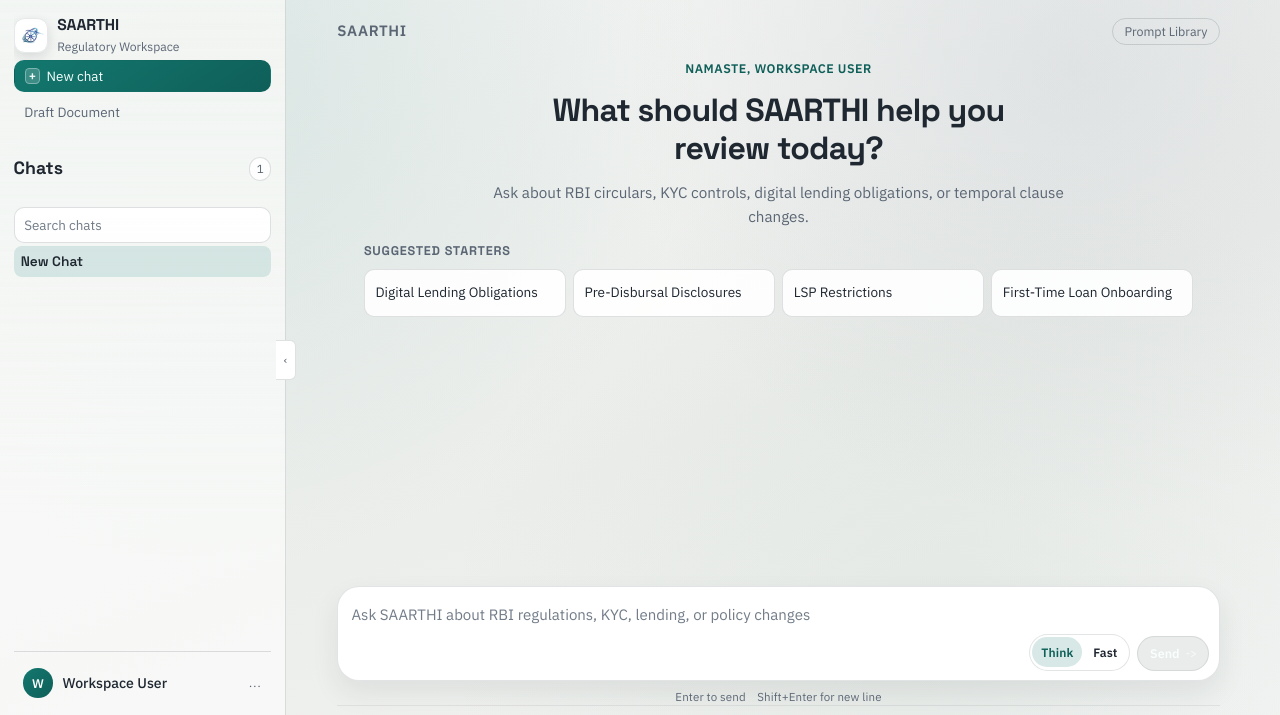
chat workspace › updates composer response mode and includes it in ask payload
Expected: the heading "SAARTHI" is shown, [57,15,119,35]
Click the button with aria-label "Fast mode": (1105, 652) [1084,637,1126,667]
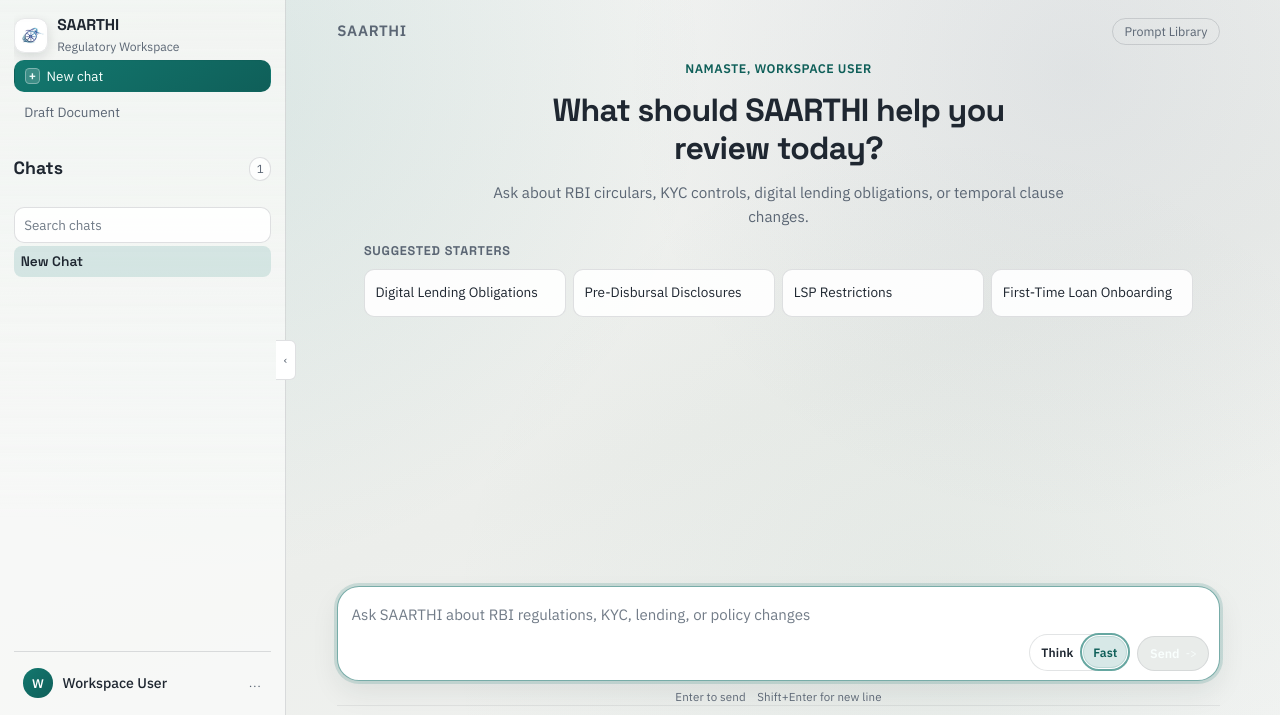
Expected: the button with aria-label "Fast mode" is pressed, [1084,637,1126,667]
In the text box with placeholder "Ask SAARTHI about RBI regulations": (684, 634) [348,597,1021,671], type "Quick test"
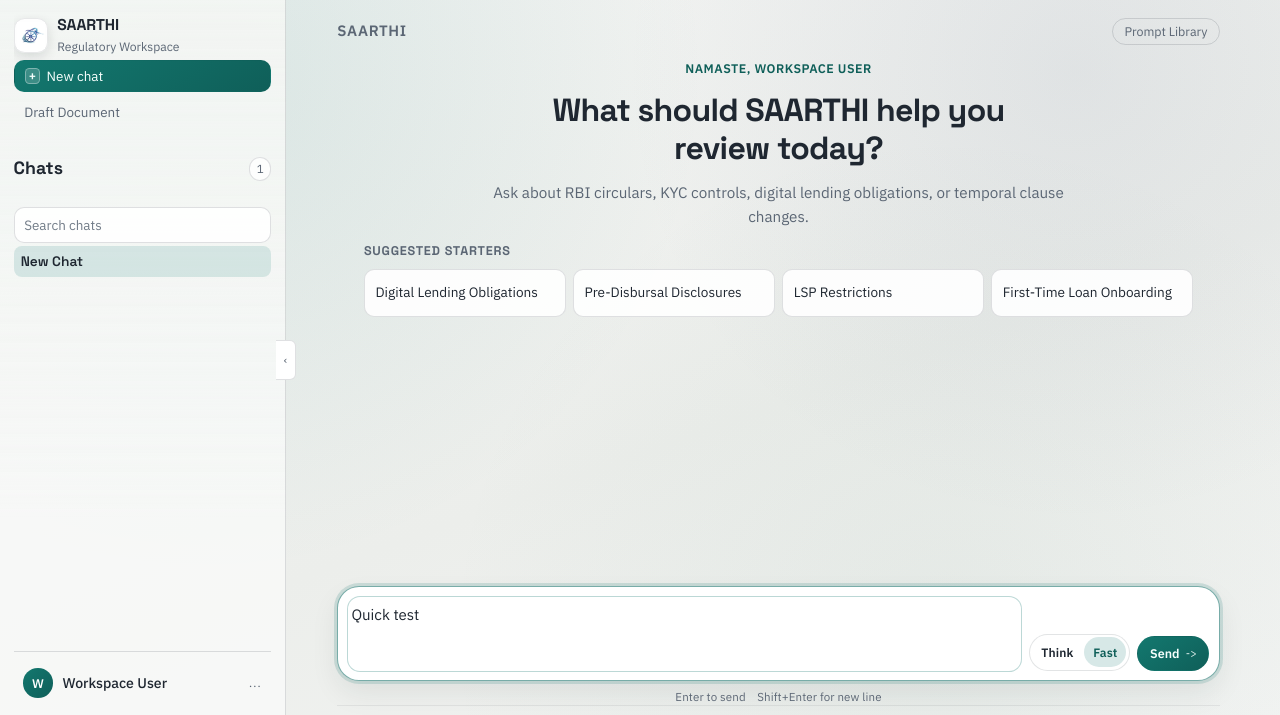
Click the button with aria-label "Send message": (1173, 653) [1137,636,1209,671]
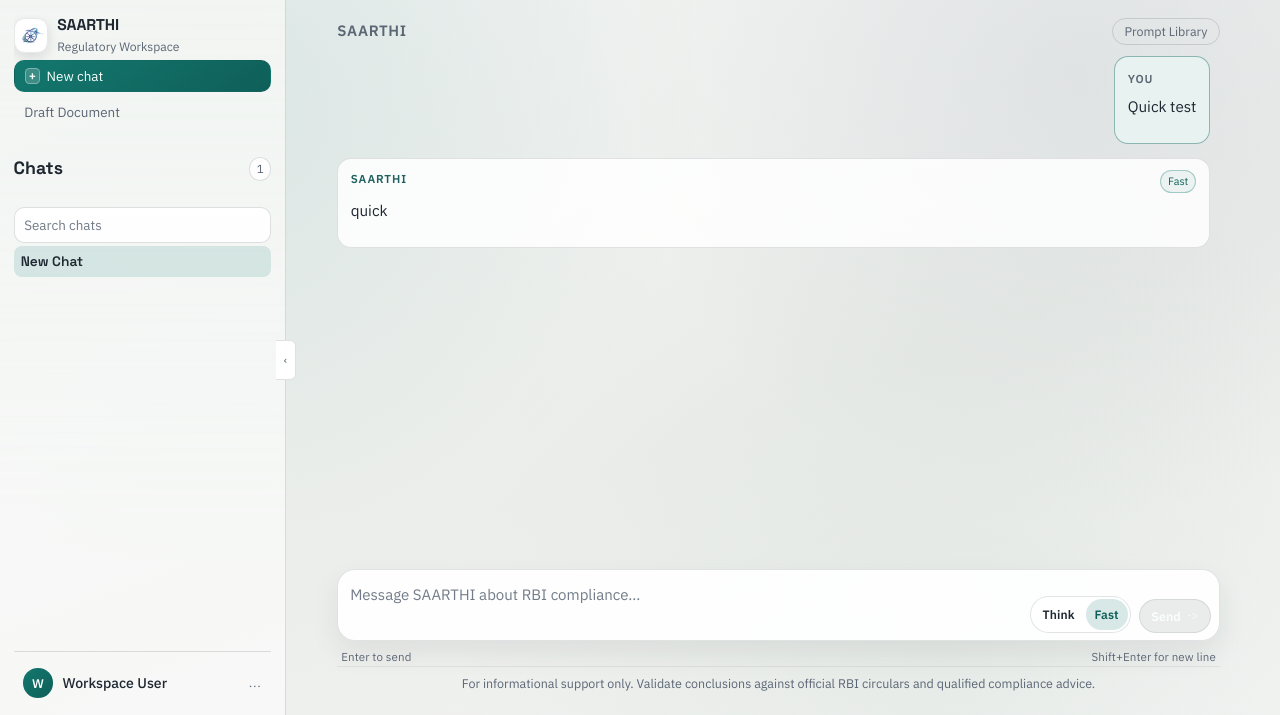
Expected: the text "quick" is shown, [351,200,388,220]
Expected: the text "Fast" is shown, [1160,170,1196,193]
Expected: the text with class "mode-tag" reads "Fast", [1168,174,1188,188]
